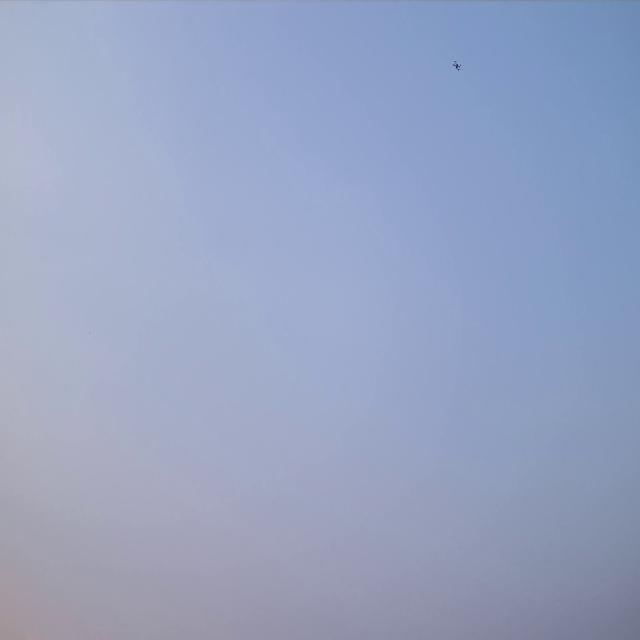UAV: (454, 61, 459, 69)
